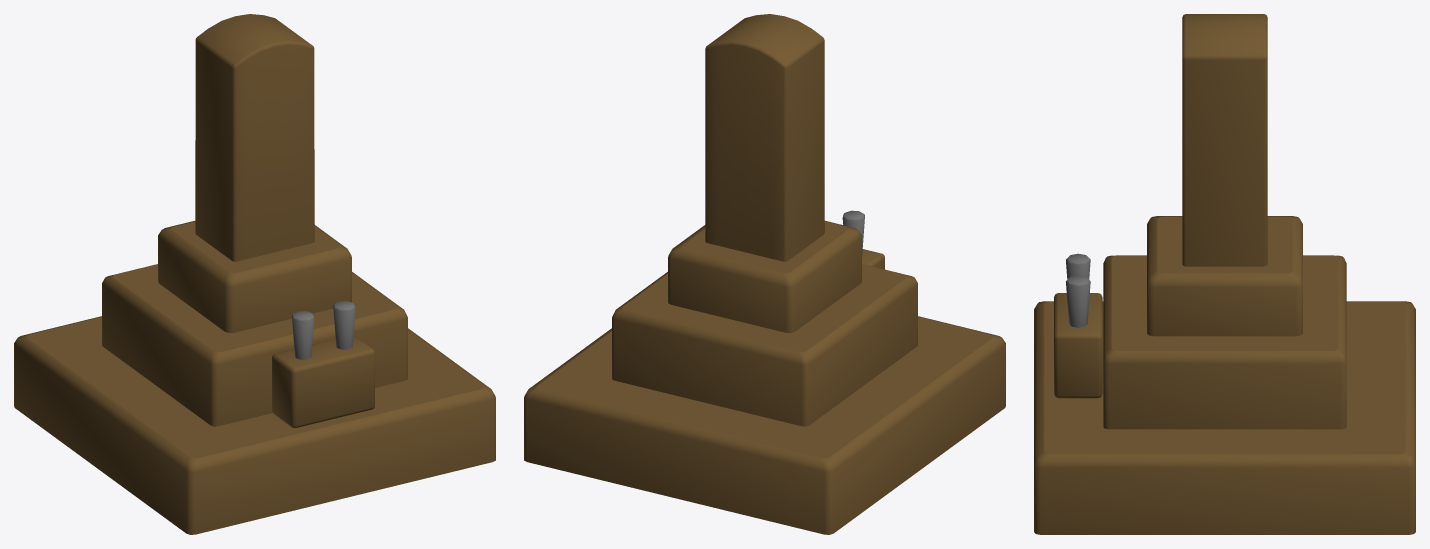
Rendered from LapideGrande.fbx.
3 renders of one model, left to right at view 1: azimuth 30°, elevation 25°; view 2: azimuth 150°, elevation 25°; view 3: azimuth 270°, elevation 25°, orthographic. The views are drawn at different scales.
Parts seen in each view (by area): view 1: LapideGrande_LOD0; view 2: LapideGrande_LOD0; view 3: LapideGrande_LOD0.
Part boxes in pixels (left/top/right/bottom): LapideGrande_LOD0: left=14, top=14, right=495, bottom=534; LapideGrande_LOD0: left=524, top=14, right=1005, bottom=534; LapideGrande_LOD0: left=1034, top=14, right=1415, bottom=534.
Size of what is drawn, in the model's own units: 80.04 by 99.96 by 80.04.
